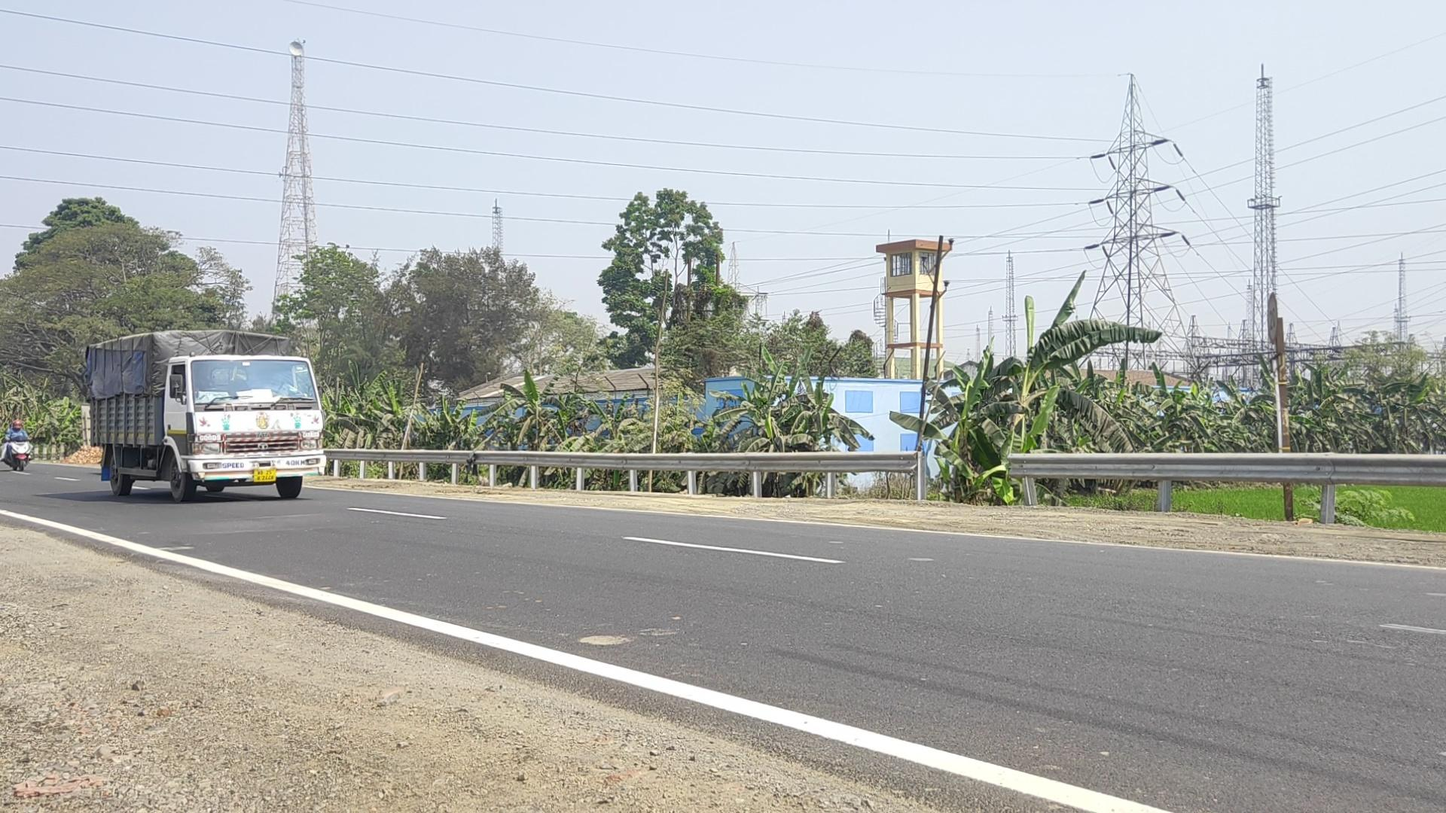bike: (3, 419, 34, 472)
truck: (85, 330, 327, 503)
